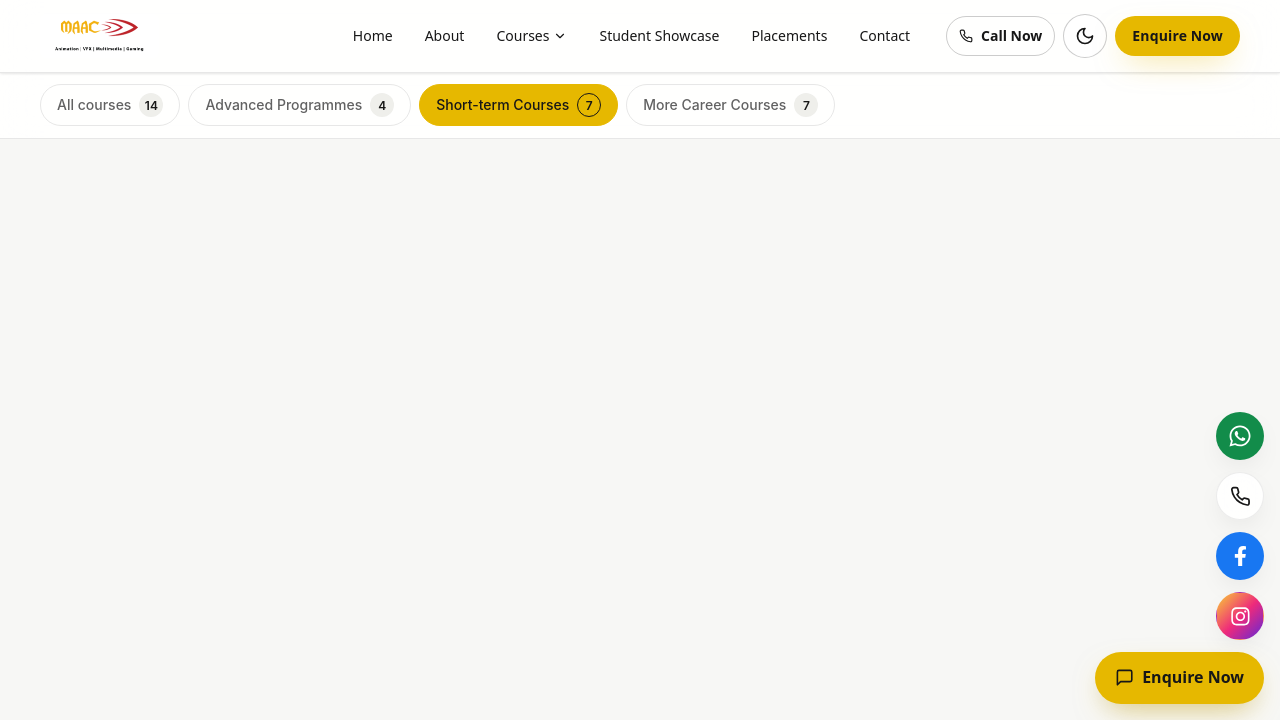
the floating Enquire Now button on /ShortTermSpecializedPage#maya-pro opens the pop-up form preselected
This screenshot has width=1280, height=720.
(page scrolled)
Click the 2nd button "Enquire Now": (1180, 678) [1095,652,1264,704]
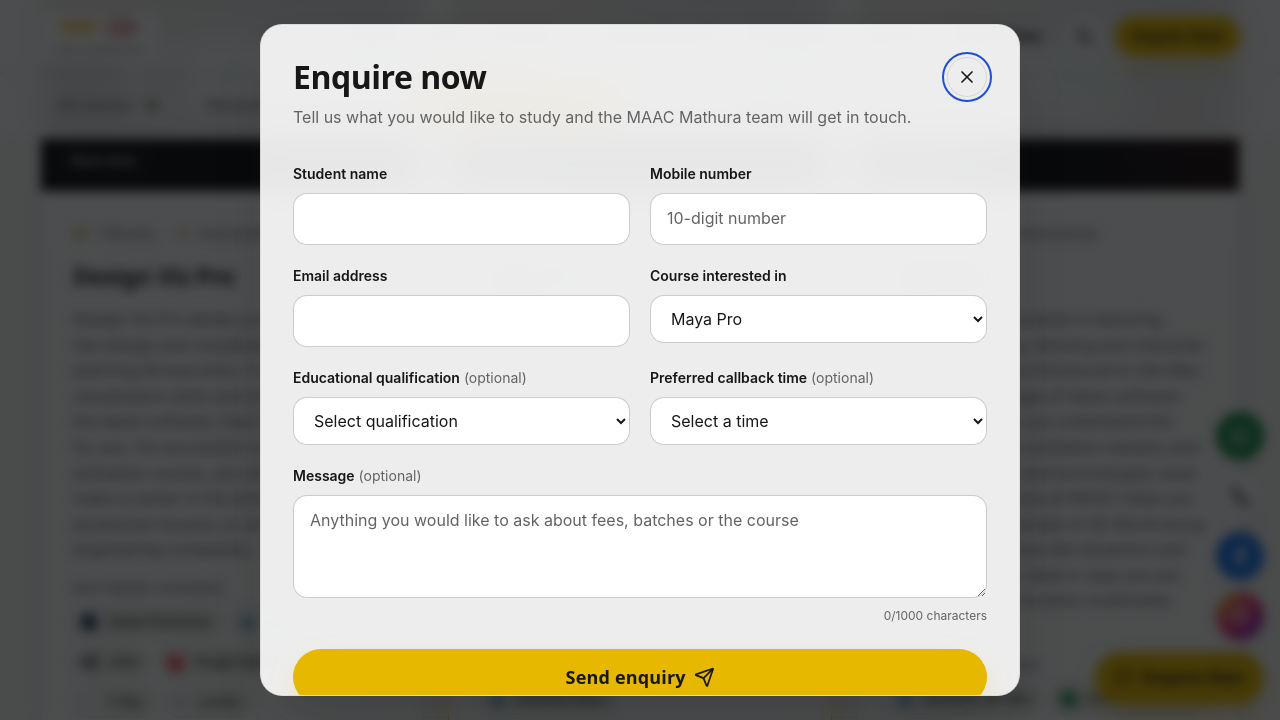
Check: the dropdown labelled "Course interested in" shows "Maya Pro", box [650,295,987,343]
Check: the dropdown labelled "Educational qualification (optional)" is shown, box [293,397,630,445]
